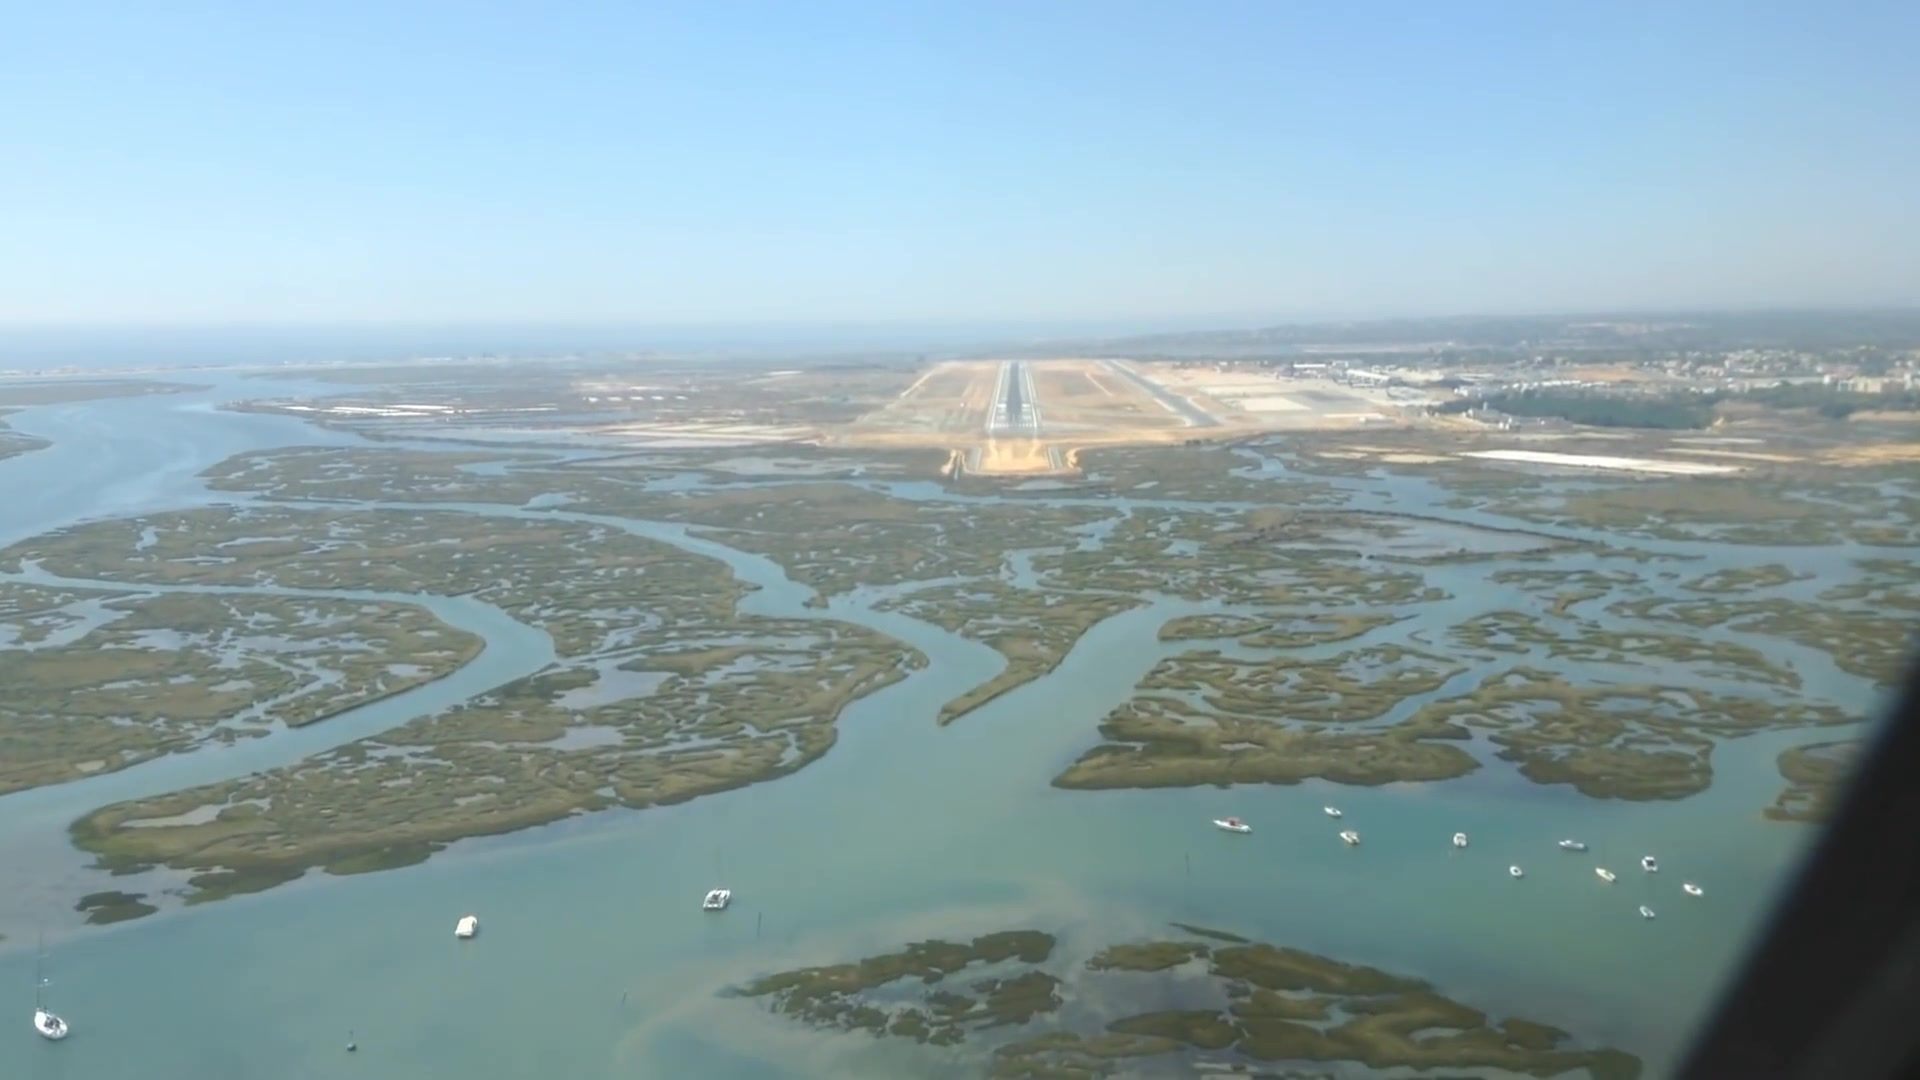entrance: (992, 421, 1036, 430)
runway: (988, 360, 1040, 433)
